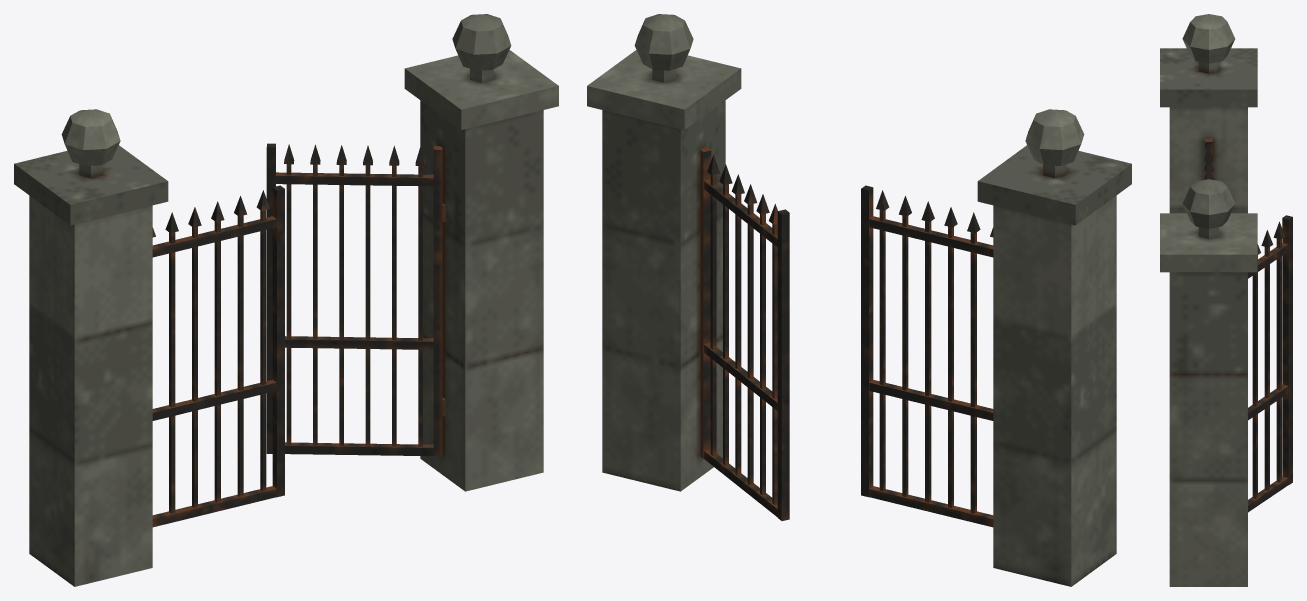
Rendered from Fence_Gate_01.obj.
The picture shows the model from 3 angles, left to right: view 1: azimuth 30°, elevation 25°; view 2: azimuth 150°, elevation 25°; view 3: azimuth 270°, elevation 25°; orthographic projection. The views are drawn at different scales.
Visible parts, largest first — view 1: Fence_Gate_01; view 2: Fence_Gate_01; view 3: Fence_Gate_01.
Boxes of the visible parts, x1,y1,x2,y2 form: Fence_Gate_01: (14,14,558,586); Fence_Gate_01: (587,14,1131,586); Fence_Gate_01: (1160,14,1292,586).
Size of the model in its own units: 2.5 by 2.21 by 0.6803.
Materials: 1 (1 with a texture image).
